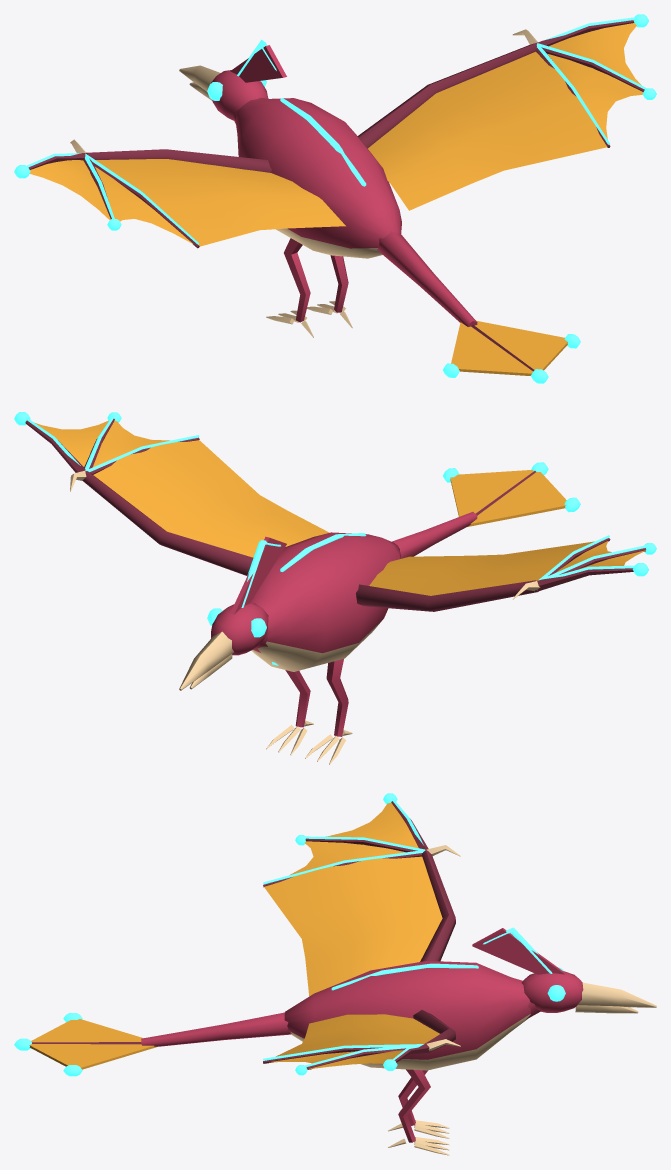
The model's file is creature_flyer_a.glb.
3 views of the same model, one above another, from view 1: azimuth 30°, elevation 25°; view 2: azimuth 150°, elevation 25°; view 3: azimuth 270°, elevation 25° (orthographic). The views are drawn at different scales.
Parts seen in each view (by area): view 1: Wing_R, Wing_L, Body, Tail, Head; view 2: Wing_R, Body, Wing_L, Tail, Head; view 3: Wing_L, Body, Wing_R, Tail, Head.
Part boxes in pixels (left/top/right/bottom): Wing_R: left=358, top=14, right=656, bottom=210; Wing_L: left=14, top=139, right=345, bottom=248; Body: left=235, top=97, right=401, bottom=337; Tail: left=377, top=231, right=580, bottom=383; Head: left=179, top=39, right=286, bottom=123; Wing_R: left=14, top=412, right=329, bottom=575; Body: left=250, top=532, right=400, bottom=764; Wing_L: left=356, top=535, right=656, bottom=611; Tail: left=392, top=462, right=580, bottom=558; Head: left=179, top=536, right=286, bottom=690; Wing_L: left=263, top=793, right=460, bottom=996; Body: left=284, top=960, right=530, bottom=1155; Wing_R: left=263, top=1010, right=460, bottom=1075; Tail: left=14, top=1012, right=291, bottom=1076; Head: left=472, top=927, right=656, bottom=1019.
Bounding box in the file's own units: 2.61 × 0.9665 × 2.61.
